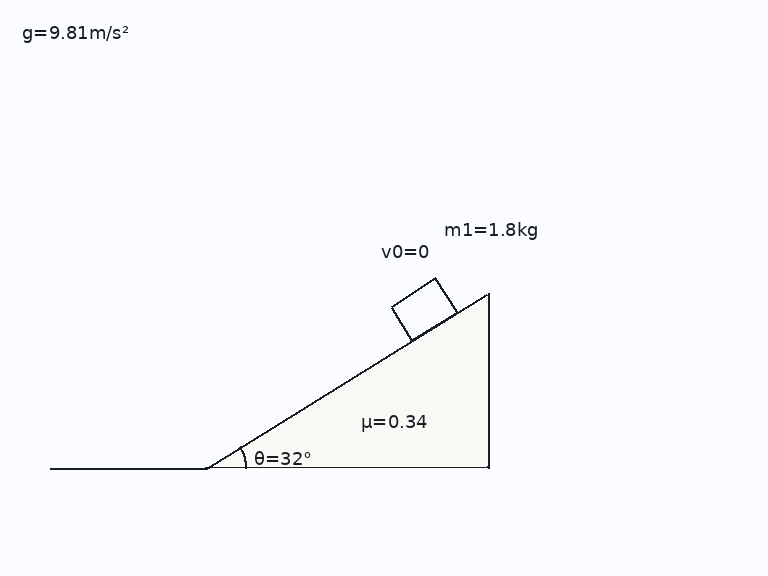block: (389, 276, 459, 342)
ramp: (204, 291, 489, 470)
